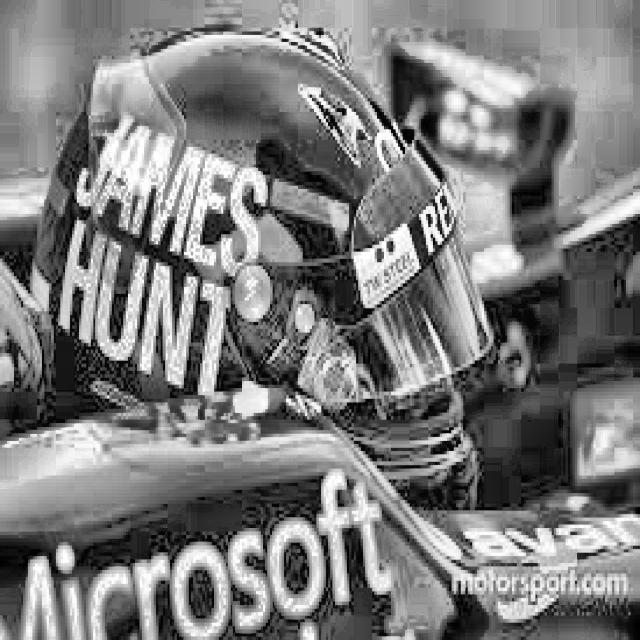Helmet: (35, 24, 506, 557)
